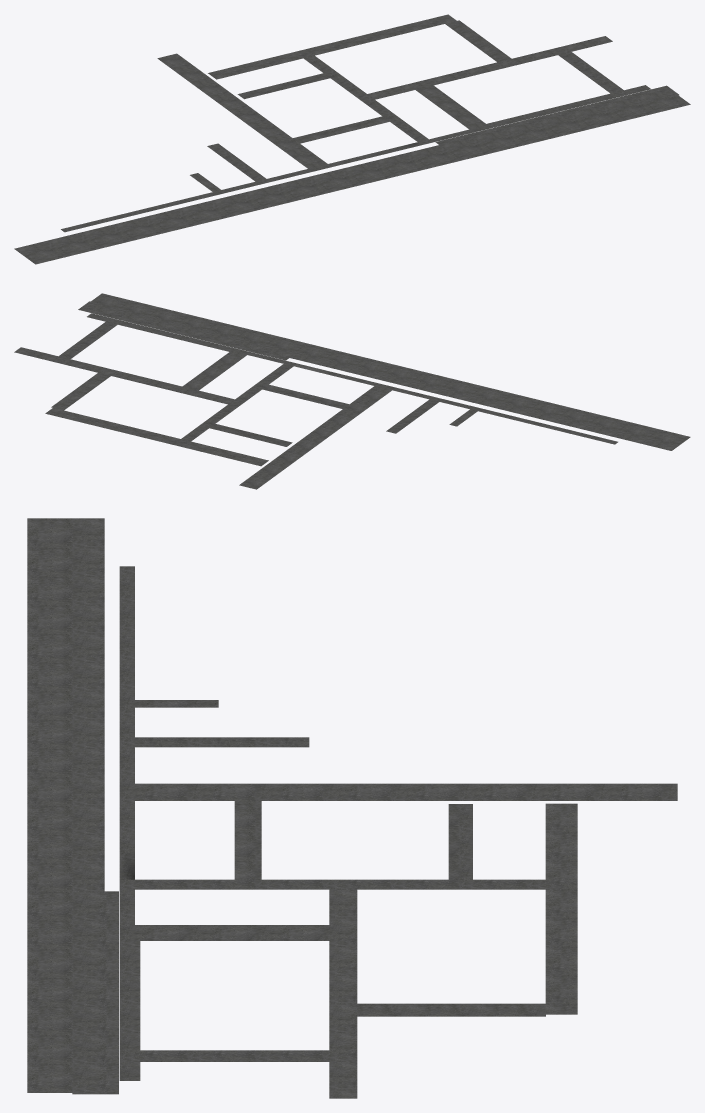
The model's file is street.fbx.
3 views of the same model, one above another, from view 1: azimuth 30°, elevation 25°; view 2: azimuth 150°, elevation 25°; view 3: azimuth 270°, elevation 25° (orthographic). The views are drawn at different scales.
Visible parts, largest first — view 1: Plane005, Plane004; view 2: Plane005, Plane004; view 3: Plane005, Plane004.
Boxes of the visible parts, <box> form: Plane005: <box>61,14,650,232</box>; Plane004: <box>14,85,690,264</box>; Plane005: <box>14,313,617,489</box>; Plane004: <box>78,293,690,450</box>; Plane005: <box>119,566,677,1098</box>; Plane004: <box>27,518,118,1094</box>.
Bounding box in the file's own units: 101226 × 2 × 47925.
Materials: 1 (1 with a texture image).
